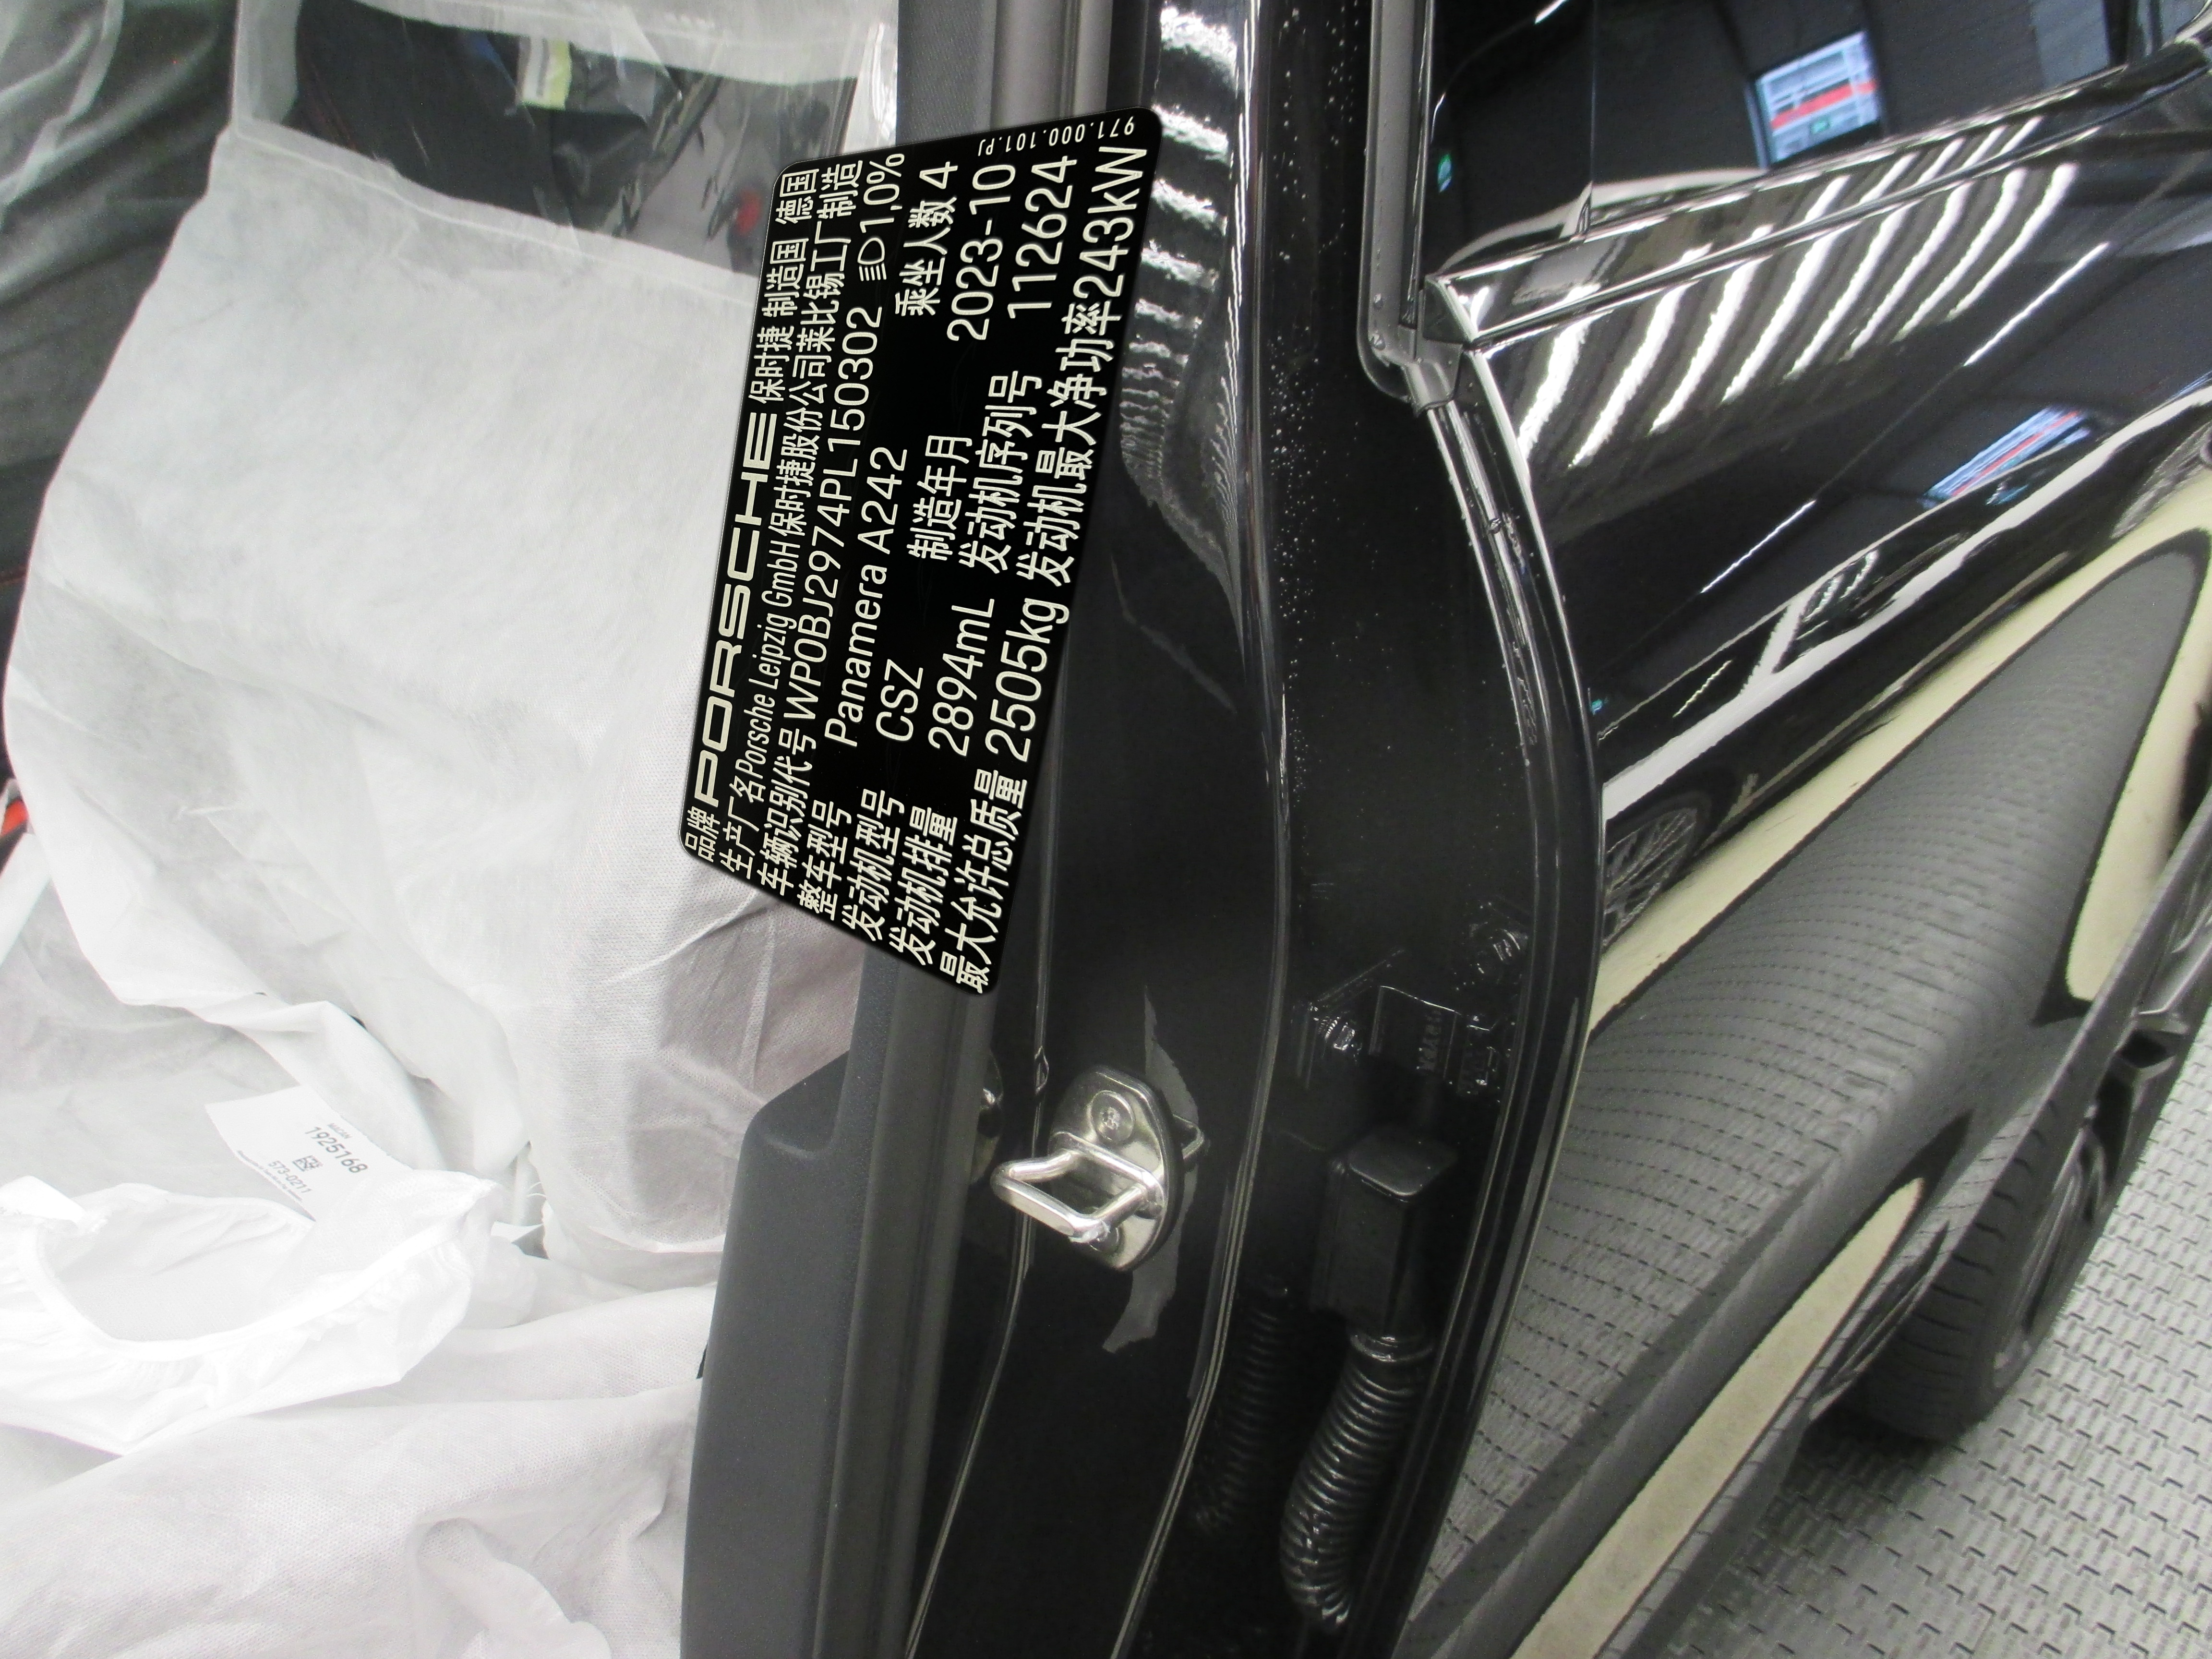Typlabel-China: (679, 106, 1163, 995)
